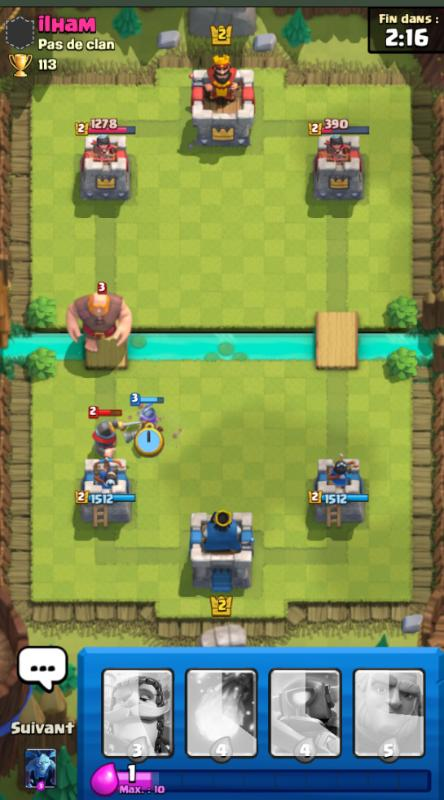chevalier: (95, 424, 119, 457)
geant: (66, 291, 129, 352)
mousquetaire: (131, 403, 166, 453)
